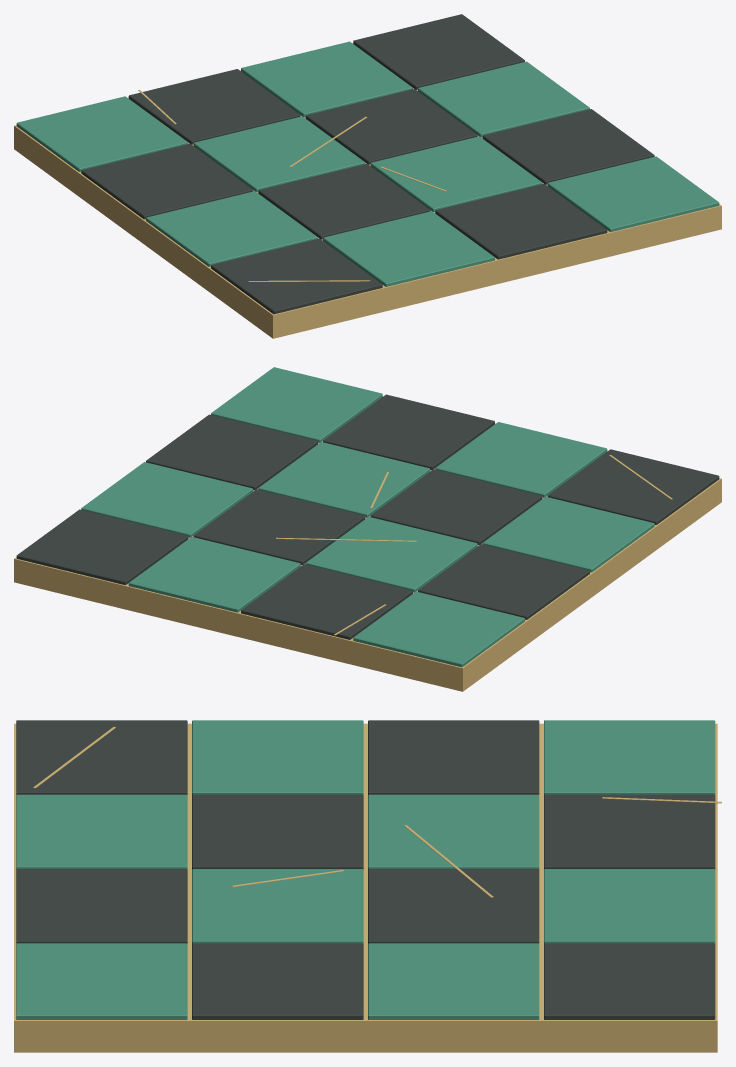
The model's file is floor_ex_jade.glb.
3 views of the same model, one above another, from view 1: azimuth 30°, elevation 25°; view 2: azimuth 150°, elevation 25°; view 3: azimuth 270°, elevation 25° (orthographic). The views are drawn at different scales.
Visible parts, largest first — view 1: floor_ex_jade; view 2: floor_ex_jade; view 3: floor_ex_jade.
Boxes of the visible parts, x1=… form: floor_ex_jade: x1=14, y1=14, x2=721, y2=338; floor_ex_jade: x1=14, y1=367, x2=721, y2=691; floor_ex_jade: x1=14, y1=720, x2=721, y2=1052.
Size of the model in its own units: 4 by 0.2315 by 4.03.
